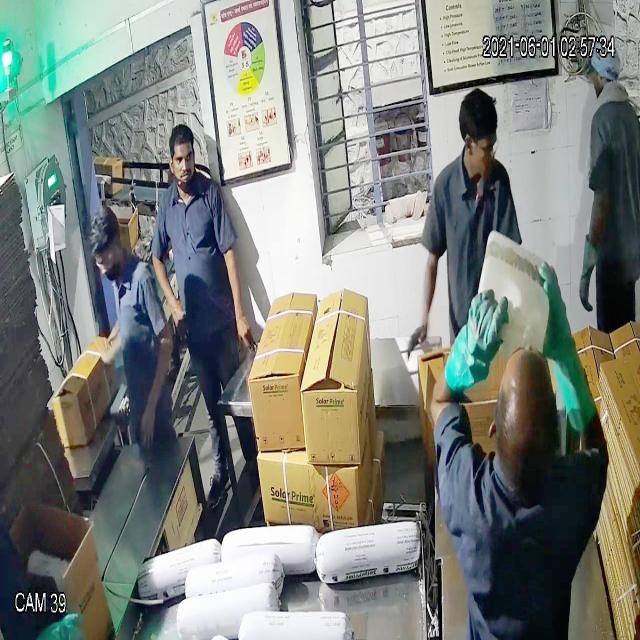glasses: (457, 121, 503, 166)
